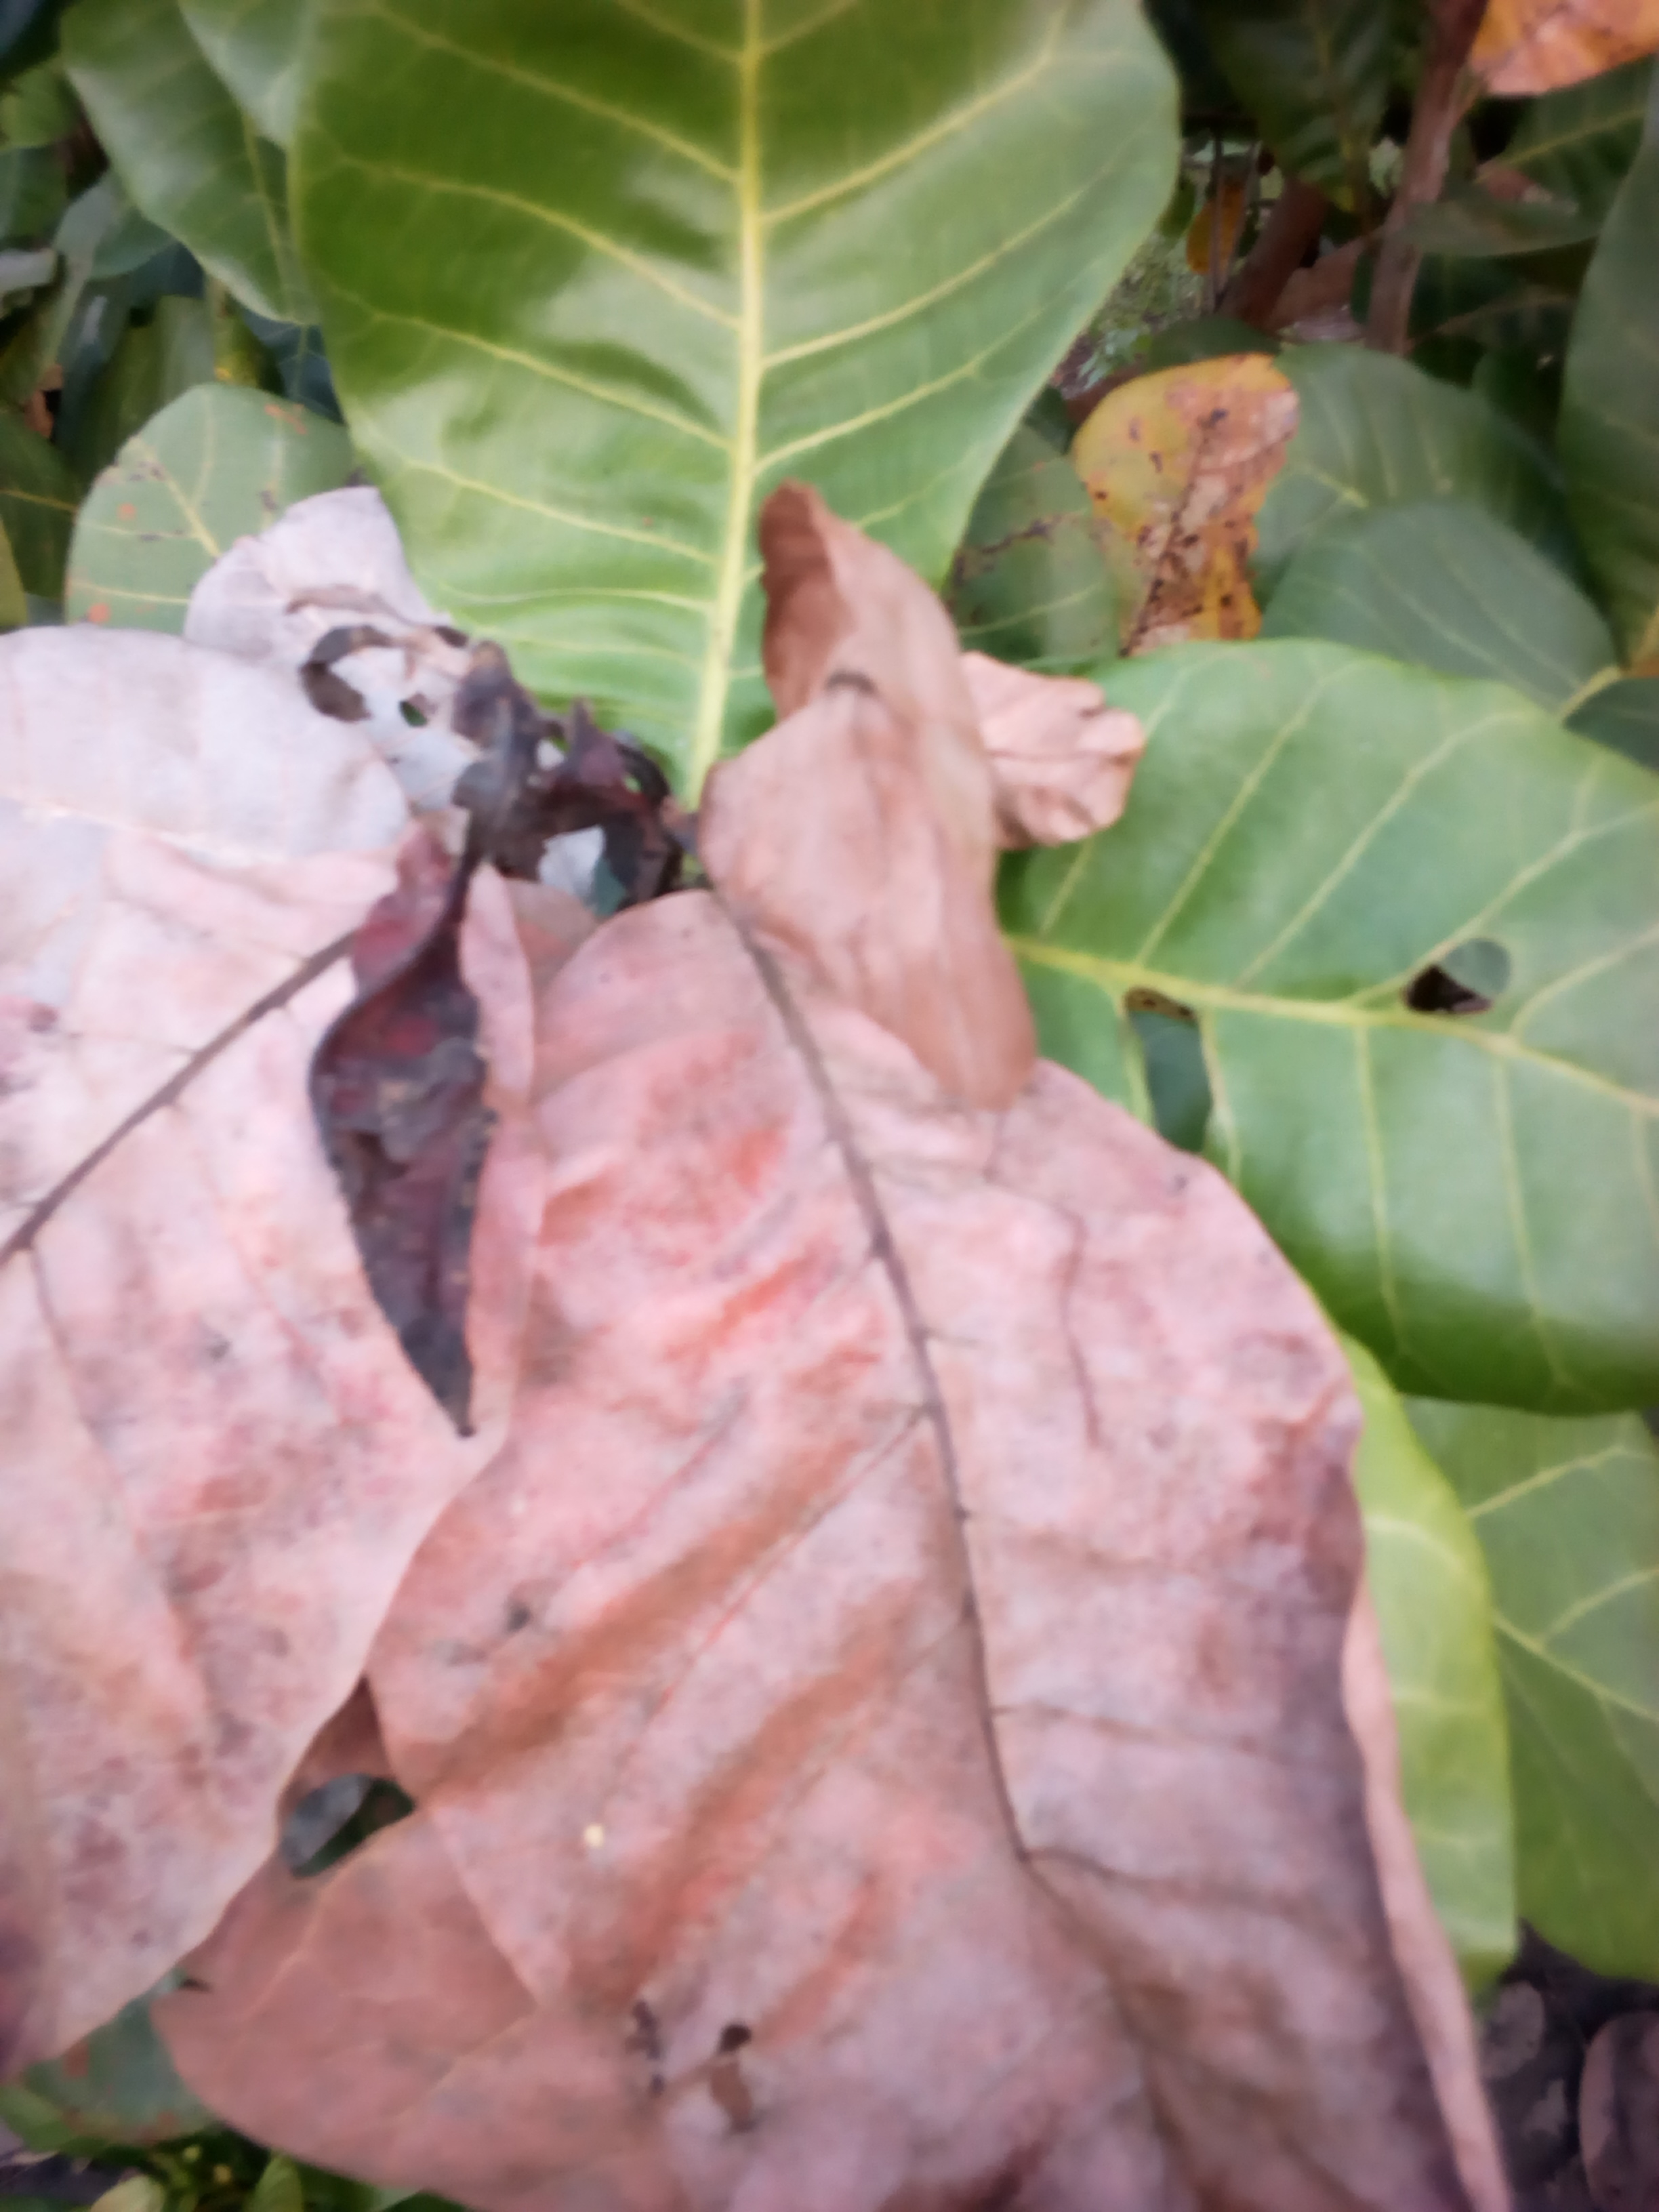Dessèchement des bourgeons: (333, 622, 685, 1334)
